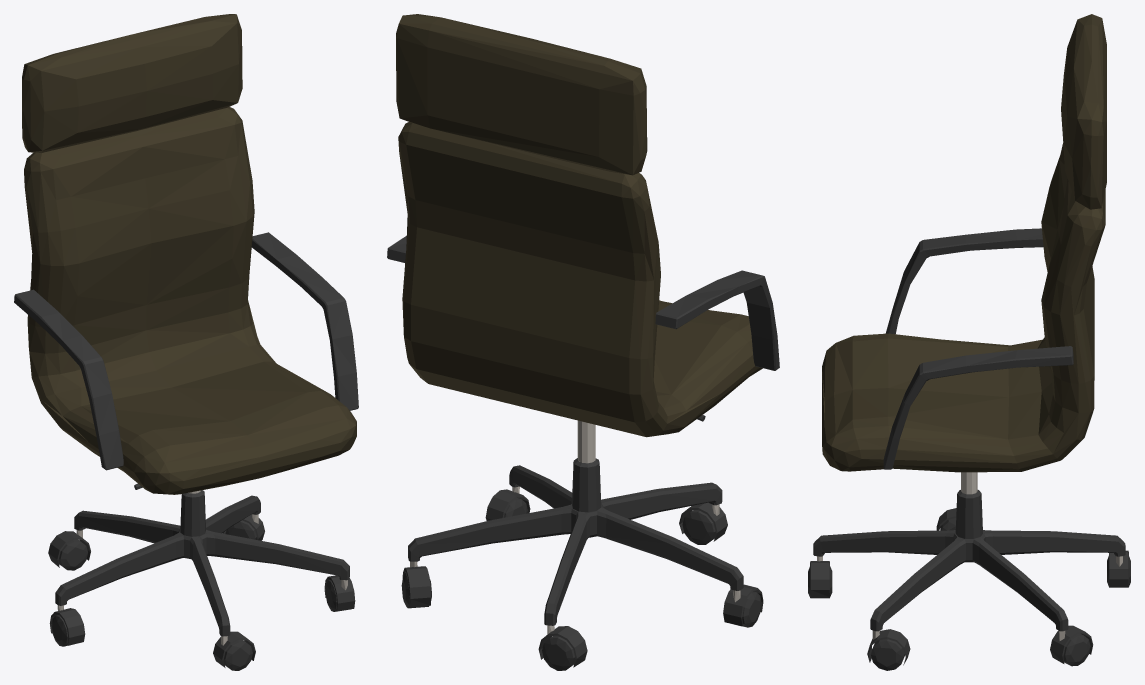
Rendered from gamingChair-transformed.glb.
The picture shows the model from 3 angles, left to right: view 1: azimuth 30°, elevation 25°; view 2: azimuth 150°, elevation 25°; view 3: azimuth 270°, elevation 25°; orthographic projection. The views are drawn at different scales.
Parts seen in each view (by area): view 1: Node; view 2: Node; view 3: Node.
Part boxes in pixels (<box>): Node: <box>14,14,358,670</box>; Node: <box>387,14,779,670</box>; Node: <box>808,14,1130,670</box>.
Size of the model in its own units: 24.17 by 45.17 by 24.05.
